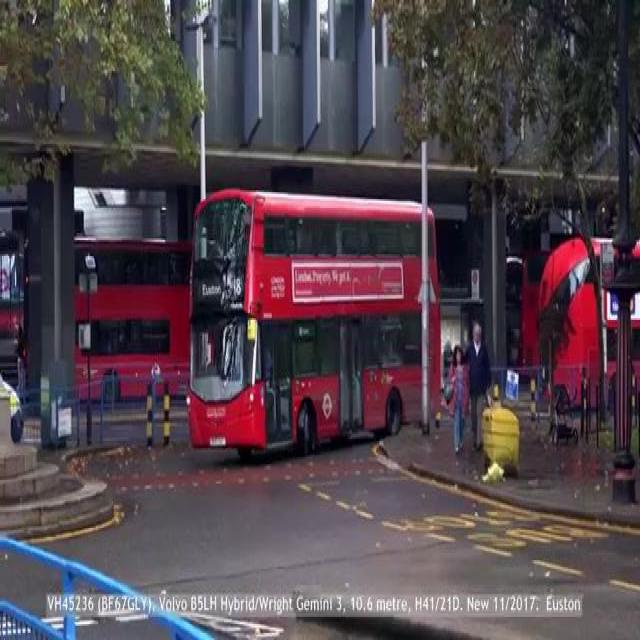motorcycle: (185, 187, 435, 453), (43, 240, 195, 409), (539, 242, 636, 402)
